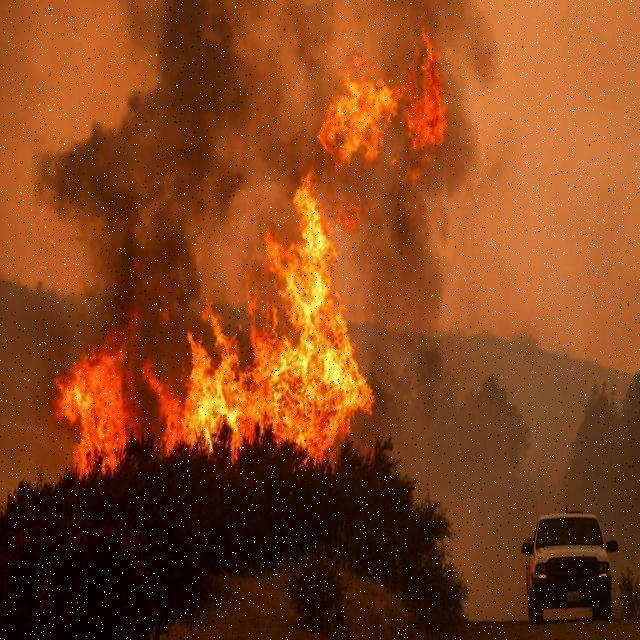fire: (294, 172, 360, 453), (199, 320, 295, 436), (37, 357, 133, 465), (330, 61, 401, 165), (409, 25, 457, 159)
smoke: (68, 22, 250, 290)
